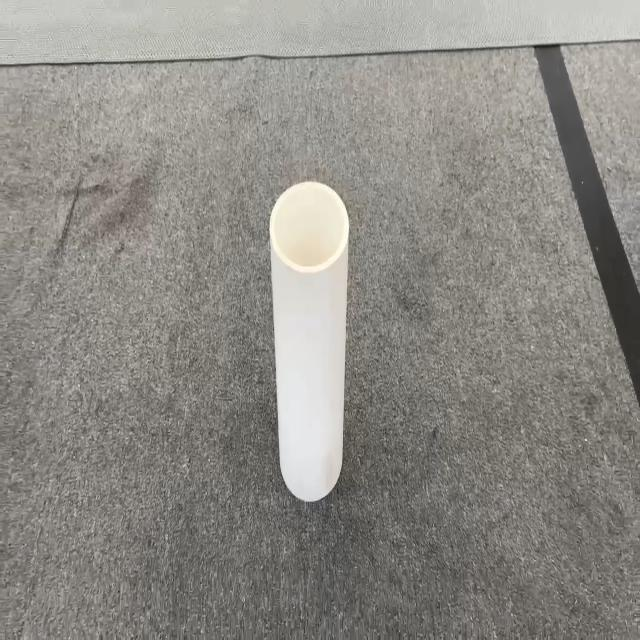coral: (268, 179, 350, 502)
